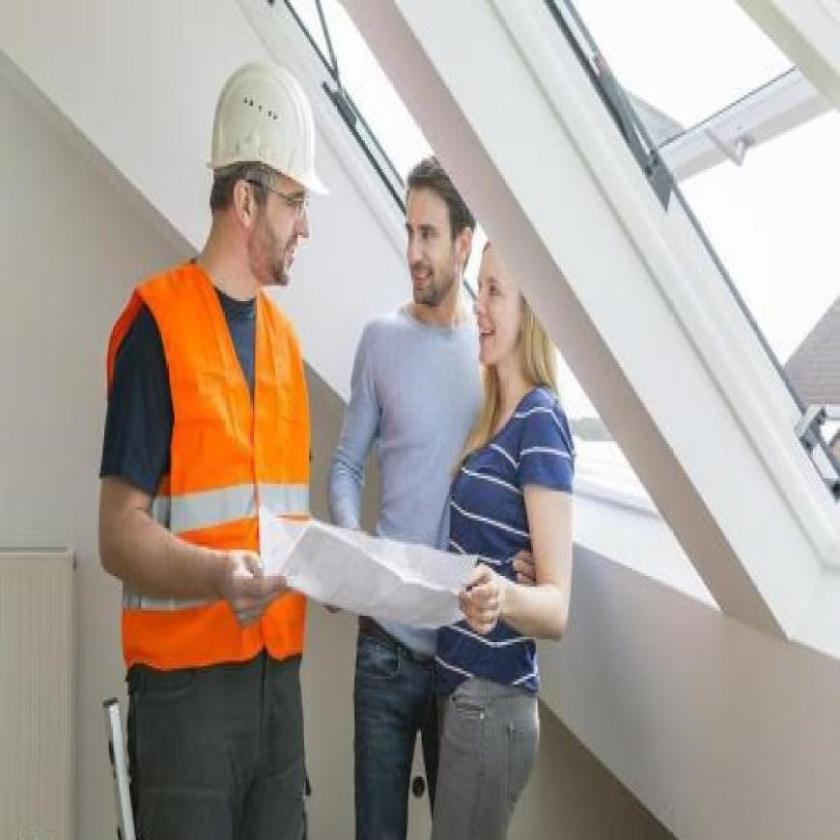Con_casco: (200, 60, 336, 317)
Sin_casco: (397, 148, 478, 314), (474, 232, 555, 372)
